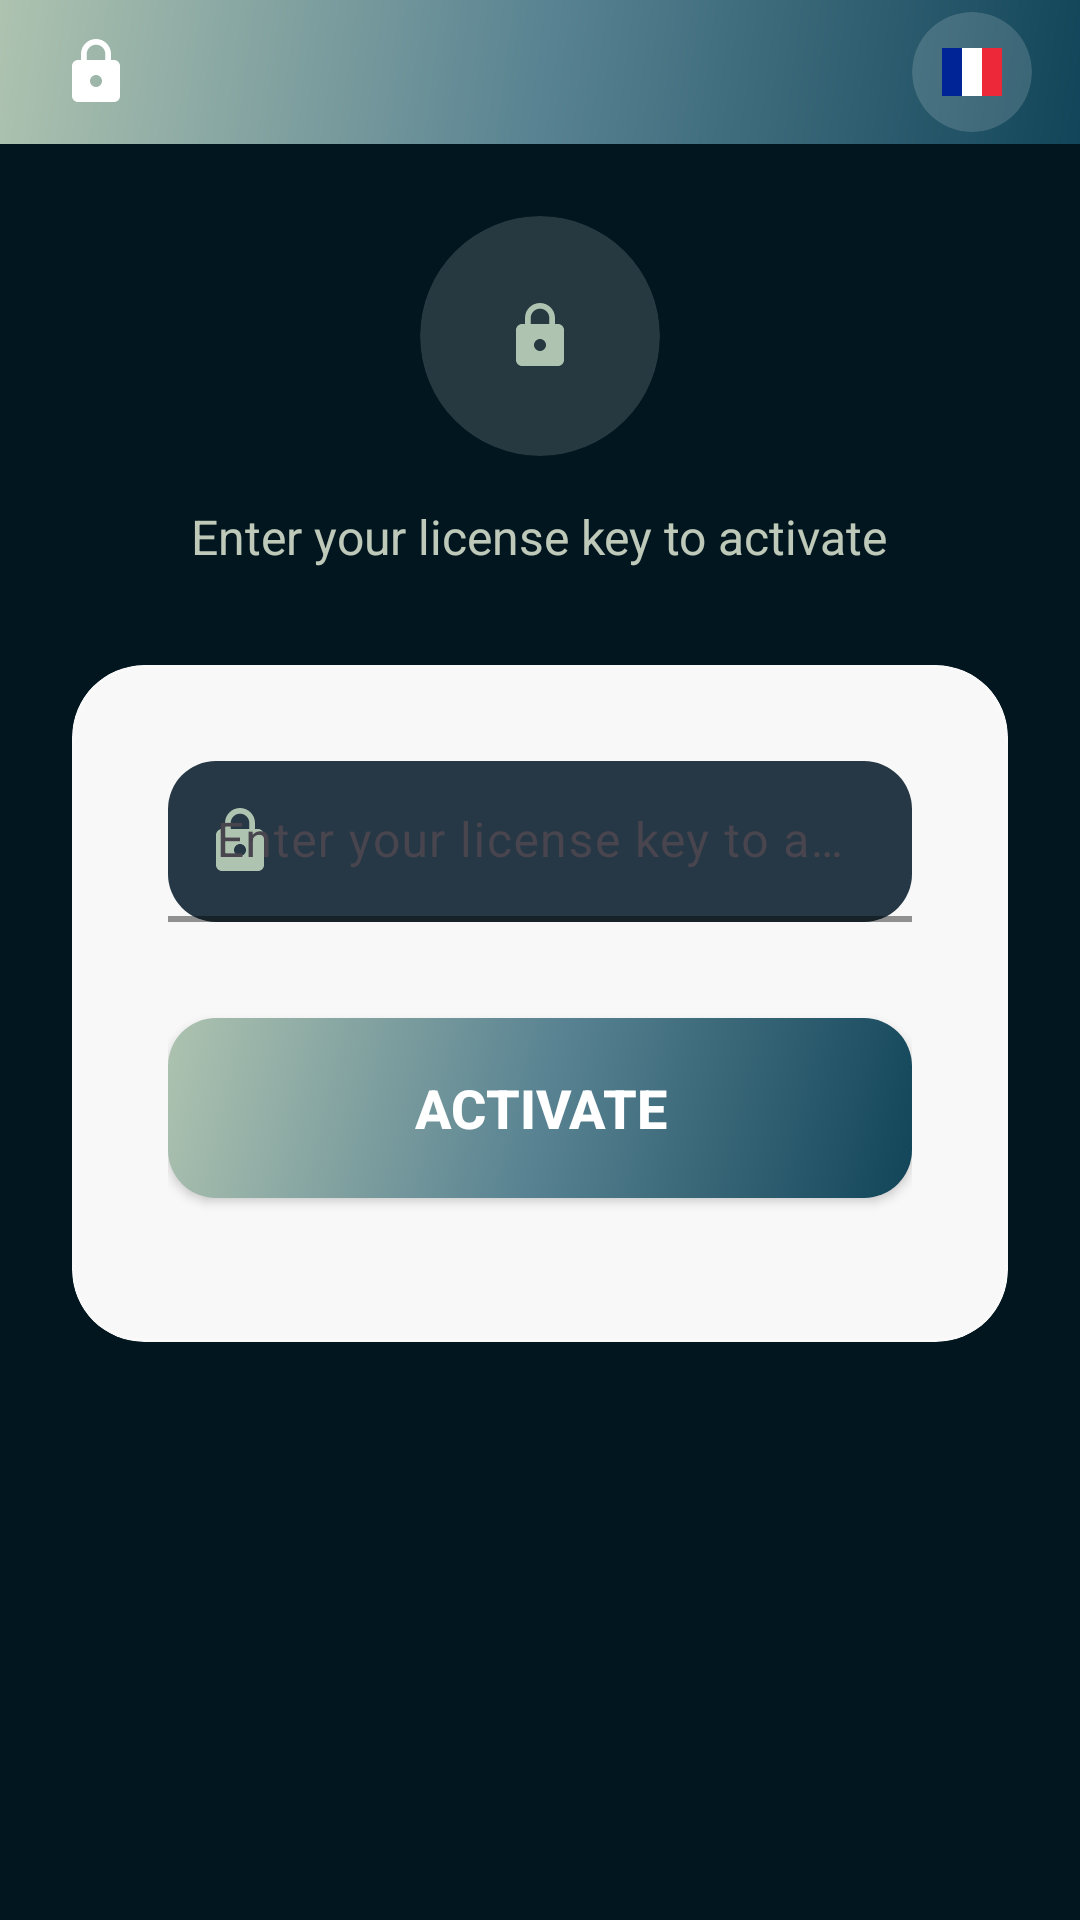

Screen size 1080*1920. Icon name, then its box in pixels as (x1, y1, x2, y2):
flag fr: (942, 48, 1002, 96)
lock: (72, 39, 120, 102), (420, 216, 660, 456)
